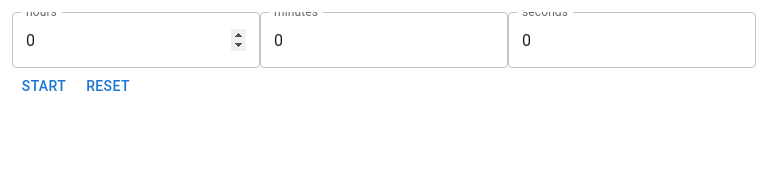
Test: timer functionality › should reset all the textfields to 0
The width and height of the screenshot is (773, 172).
Replace the text in the number field labelled "hours" with "5" at (136, 40), box [12,12,260,68]
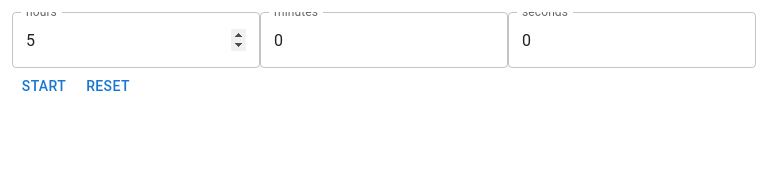
Replace the text in the number field labelled "minutes" with "10" at (384, 40), box [260,12,508,68]
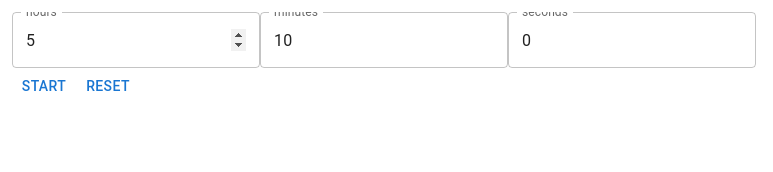
Replace the text in the number field labelled "seconds" with "50" at (632, 40), box [508,12,756,68]
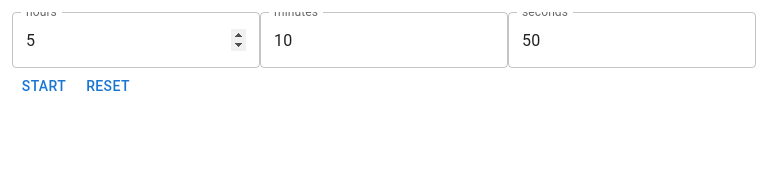
Click the button "start" at (44, 86), box [12,68,76,104]
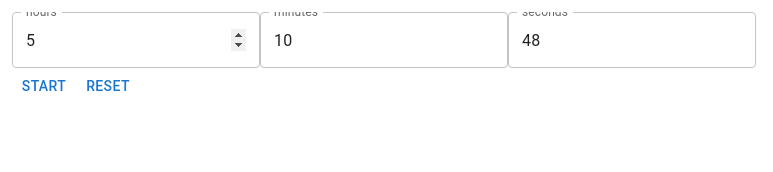
Click the button "reset" at (108, 86), box [76,68,140,104]
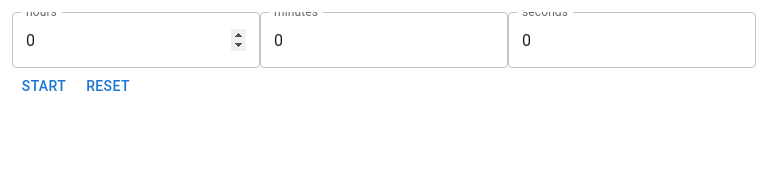
Result: the number field labelled "hours" holds "0" at [12,12,260,68]
Result: the number field labelled "minutes" holds "0" at [260,12,508,68]
Result: the number field labelled "seconds" holds "0" at [508,12,756,68]
